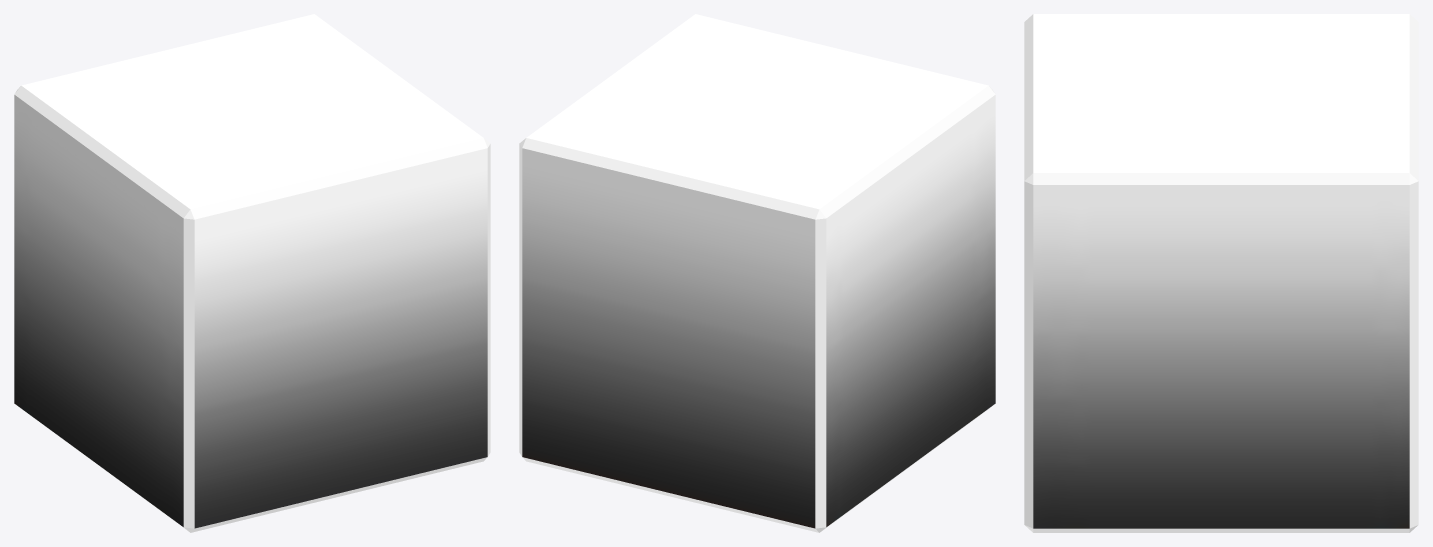
Rendered from 2db66f49-3bb6-4e79-8e5a-29e50406caff.glb.
The picture shows the model from 3 angles, left to right: view 1: azimuth 30°, elevation 25°; view 2: azimuth 150°, elevation 25°; view 3: azimuth 270°, elevation 25°; orthographic projection. The views are drawn at different scales.
Parts seen in each view (by area): view 1: CyberPunkCubeShapeB.001; view 2: CyberPunkCubeShapeB.001; view 3: CyberPunkCubeShapeB.001.
Part boxes in pixels (x1=…): CyberPunkCubeShapeB.001: x1=14, y1=14, x2=490, y2=532; CyberPunkCubeShapeB.001: x1=519, y1=14, x2=995, y2=532; CyberPunkCubeShapeB.001: x1=1024, y1=14, x2=1418, y2=532.
Size of what is drawn, in the model's own units: 0.7415 by 0.7467 by 0.7415.
2 materials, 2 textured.
